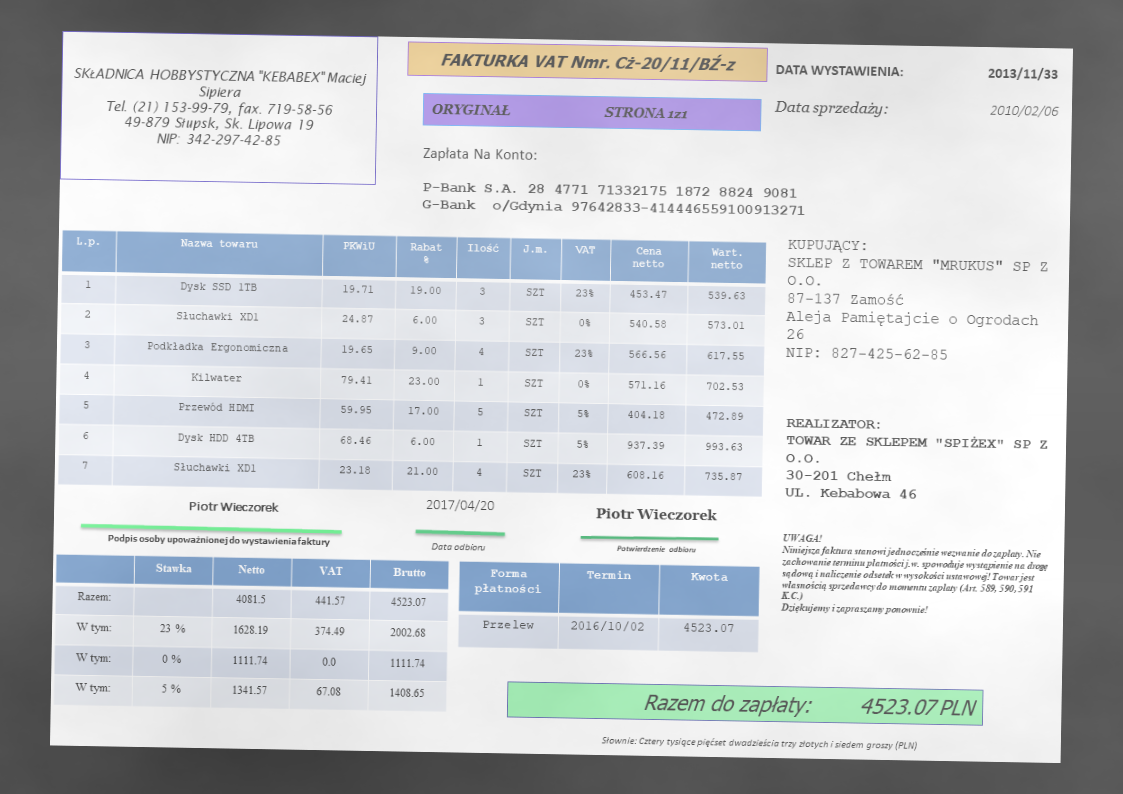Table: (55, 227, 768, 499), (52, 552, 450, 714), (456, 558, 762, 653)
TextBox: (782, 234, 1053, 368), (69, 63, 371, 152), (777, 529, 1054, 622), (782, 414, 1052, 506), (419, 178, 810, 221), (640, 689, 980, 719), (438, 46, 742, 77), (597, 732, 920, 753), (429, 98, 690, 122), (105, 530, 332, 551), (772, 95, 893, 120), (774, 60, 905, 80), (420, 143, 541, 164), (593, 505, 718, 523), (184, 498, 284, 515), (423, 495, 495, 516), (984, 65, 1063, 83), (985, 102, 1062, 119), (614, 542, 697, 556), (428, 539, 487, 554)
